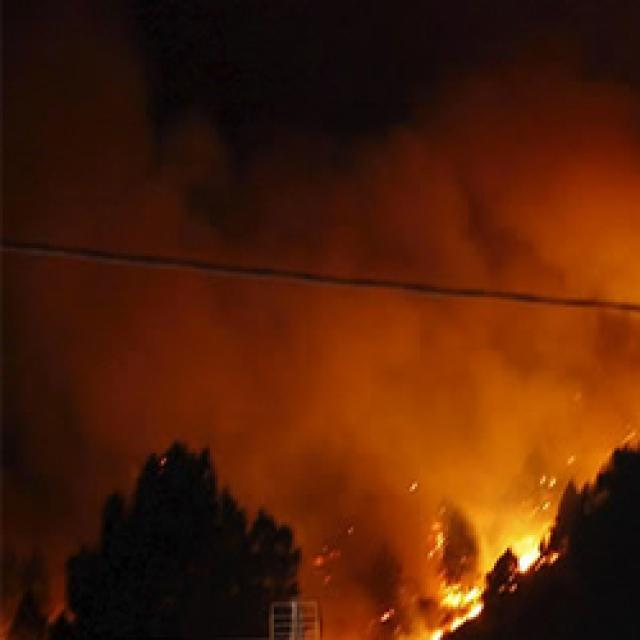Fire: (420, 520, 483, 606), (503, 526, 561, 572), (419, 606, 491, 640), (310, 546, 342, 585), (528, 472, 559, 509)
Smoke: (0, 8, 640, 444), (219, 442, 387, 640), (388, 444, 603, 518), (0, 440, 138, 546)
